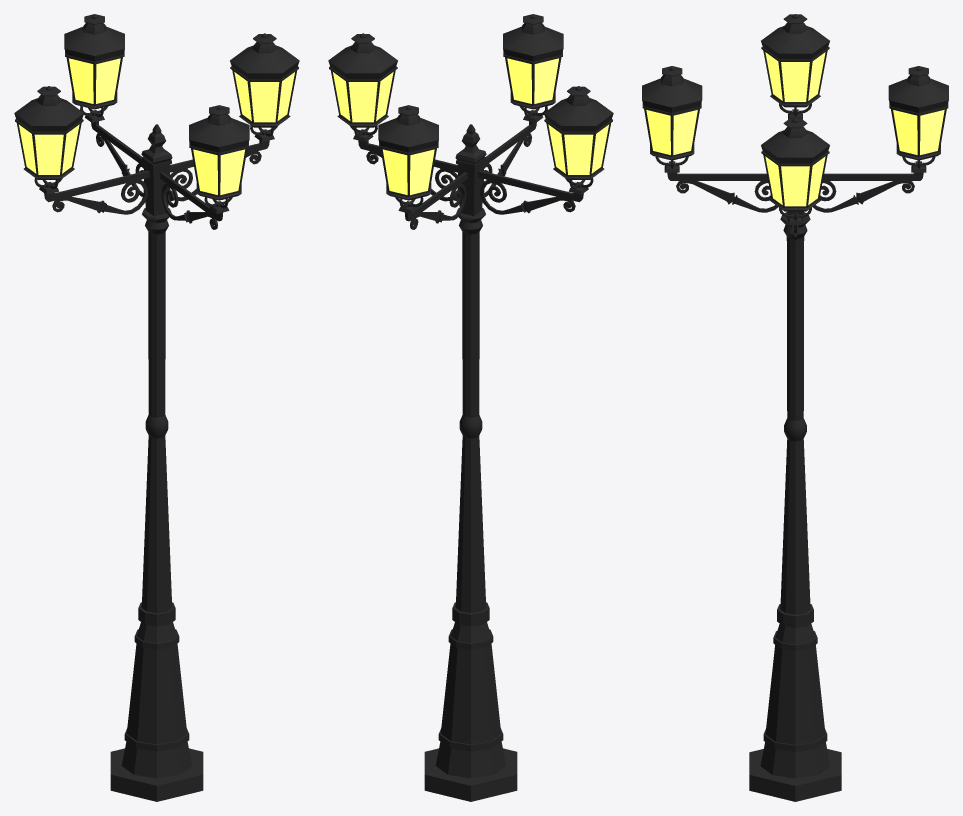
Rendered from FarolaDe1.006.fbx.
The picture shows the model from 3 angles, left to right: view 1: azimuth 30°, elevation 25°; view 2: azimuth 150°, elevation 25°; view 3: azimuth 270°, elevation 25°; orthographic projection.
Visible parts, largest first — view 1: FarolaDe1.006; view 2: FarolaDe1.006; view 3: FarolaDe1.006.
Boxes of the visible parts, bbox=[...] form: FarolaDe1.006: bbox=[14, 14, 299, 801]; FarolaDe1.006: bbox=[328, 14, 613, 801]; FarolaDe1.006: bbox=[642, 14, 948, 801].
Size of the model in its own units: 128 by 329 by 128.
